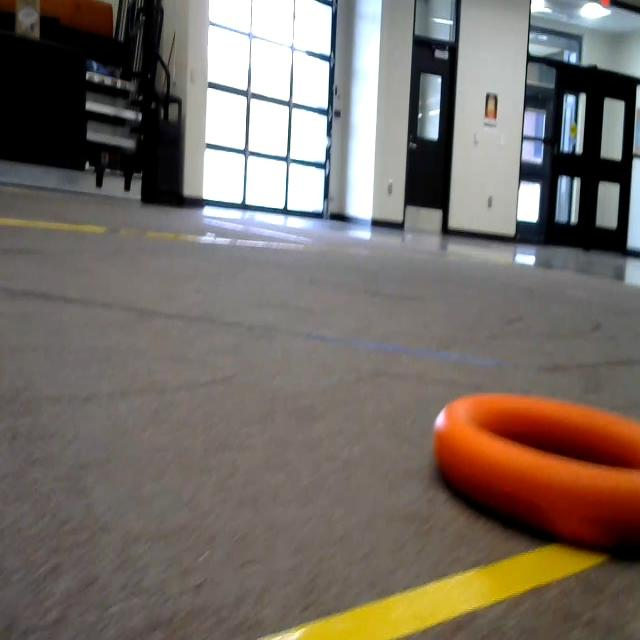note: (410, 364, 640, 582)
